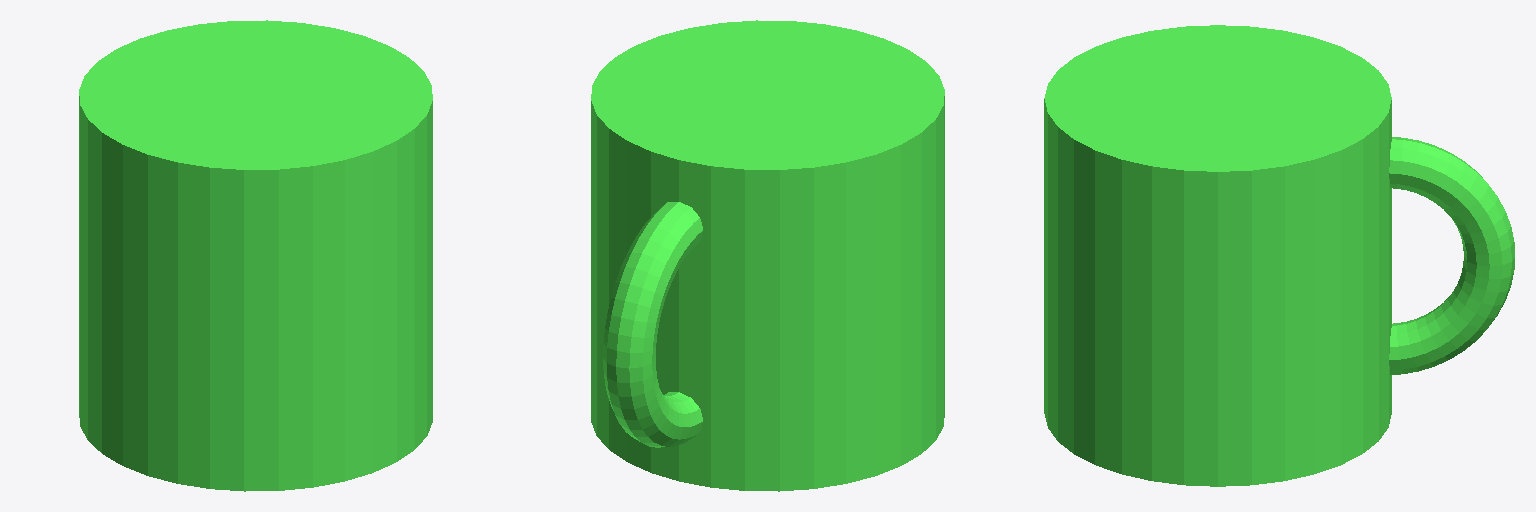
robot.urdf — mug.urdf:
<?xml version="1.0" ?>
<robot name="mug.urdf">
  <link name="baseLink">
    <inertial>
      <origin rpy="0 0 0" xyz="0 0 0"/>
       <mass value=".0"/>
       <inertia ixx="0" ixy="0" ixz="0" iyy="0" iyz="0" izz="0"/>
    </inertial>
    <visual>
      <origin rpy="0 0 0" xyz="0 0 0"/>
      <geometry>
				<mesh filename="package://meshes/mug_comp/mug_dbl.obj" scale="1 1 1"/>
      </geometry>
       <material name="green">
        <color rgba="0.4 1 0.4 0.5"/>
      </material>
    </visual>
    <collision>
      <origin rpy="0 0 0" xyz="0 0 0"/>
     <geometry>
				<mesh filename="package://meshes/mug_comp/mug_dbl_filled.obj" scale="1 1 1"/>
      </geometry>
    </collision>
  </link>
    <link name="link1">
        <inertial>
          <origin rpy="0 0 0" xyz="0 0 0"/>
           <mass value=".0"/>
           <inertia ixx="0" ixy="0" ixz="0" iyy="0" iyz="0" izz="0"/>
        </inertial>
        <visual>
      <origin rpy="0 0 0" xyz="0 0 0"/>
      <geometry>
				<mesh filename="package://meshes/mug_comp/mug_dbl_filled1.obj" scale="1 1 1"/>
      </geometry>
       <material name="green">
        <color rgba="0.4 1 0.4 0.5"/>
      </material>
    </visual>
    <collision>
      <origin rpy="0 0 0" xyz="0 0 0"/>
     <geometry>
				<mesh filename="package://meshes/mug_comp/mug_dbl_filled1.obj" scale="1 1 1"/>
      </geometry>
    </collision>
  </link>
    <link name="link2">
        <inertial>
          <origin rpy="0 0 0" xyz="0 0 0"/>
           <mass value=".0"/>
           <inertia ixx="0" ixy="0" ixz="0" iyy="0" iyz="0" izz="0"/>
        </inertial>
        <visual>
      <origin rpy="0 0 0" xyz="0 0 0"/>
      <geometry>
				<mesh filename="package://meshes/mug_comp/mug_dbl_filled2.obj" scale="1 1 1"/>
      </geometry>
       <material name="green">
        <color rgba="0.4 1 0.4 0.5"/>
      </material>
    </visual>
    <collision>
      <origin rpy="0 0 0" xyz="0 0 0"/>
     <geometry>
				<mesh filename="package://meshes/mug_comp/mug_dbl_filled2.obj" scale="1 1 1"/>
      </geometry>
    </collision>
  </link>
    <link name="link3">
        <inertial>
          <origin rpy="0 0 0" xyz="0 0 0"/>
           <mass value=".0"/>
           <inertia ixx="0" ixy="0" ixz="0" iyy="0" iyz="0" izz="0"/>
        </inertial>
        <visual>
      <origin rpy="0 0 0" xyz="0 0 0"/>
      <geometry>
				<mesh filename="package://meshes/mug_comp/mug_dbl_filled3.obj" scale="1 1 1"/>
      </geometry>
       <material name="green">
        <color rgba="0.4 1 0.4 0.5"/>
      </material>
    </visual>
    <collision>
      <origin rpy="0 0 0" xyz="0 0 0"/>
     <geometry>
				<mesh filename="package://meshes/mug_comp/mug_dbl_filled3.obj" scale="1 1 1"/>
      </geometry>
    </collision>
  </link>
    <link name="link4">
        <inertial>
          <origin rpy="0 0 0" xyz="0 0 0"/>
           <mass value=".0"/>
           <inertia ixx="0" ixy="0" ixz="0" iyy="0" iyz="0" izz="0"/>
        </inertial>
        <visual>
      <origin rpy="0 0 0" xyz="0 0 0"/>
      <geometry>
				<mesh filename="package://meshes/mug_comp/mug_dbl_filled4.obj" scale="1 1 1"/>
      </geometry>
       <material name="green">
        <color rgba="0.4 1 0.4 0.5"/>
      </material>
    </visual>
    <collision>
      <origin rpy="0 0 0" xyz="0 0 0"/>
     <geometry>
				<mesh filename="package://meshes/mug_comp/mug_dbl_filled4.obj" scale="1 1 1"/>
      </geometry>
    </collision>
  </link>
    <link name="link5">
        <inertial>
          <origin rpy="0 0 0" xyz="0 0 0"/>
           <mass value=".0"/>
           <inertia ixx="0" ixy="0" ixz="0" iyy="0" iyz="0" izz="0"/>
        </inertial>
        <visual>
      <origin rpy="0 0 0" xyz="0 0 0"/>
      <geometry>
				<mesh filename="package://meshes/mug_comp/mug_dbl_filled5.obj" scale="1 1 1"/>
      </geometry>
       <material name="green">
        <color rgba="0.4 1 0.4 0.5"/>
      </material>
    </visual>
    <collision>
      <origin rpy="0 0 0" xyz="0 0 0"/>
     <geometry>
				<mesh filename="package://meshes/mug_comp/mug_dbl_filled5.obj" scale="1 1 1"/>
      </geometry>
    </collision>
  </link>
    <link name="link6">
        <inertial>
          <origin rpy="0 0 0" xyz="0 0 0"/>
           <mass value=".0"/>
           <inertia ixx="0" ixy="0" ixz="0" iyy="0" iyz="0" izz="0"/>
        </inertial>
        <visual>
      <origin rpy="0 0 0" xyz="0 0 0"/>
      <geometry>
				<mesh filename="package://meshes/mug_comp/mug_dbl_filled6.obj" scale="1 1 1"/>
      </geometry>
       <material name="green">
        <color rgba="0.4 1 0.4 0.5"/>
      </material>
    </visual>
    <collision>
      <origin rpy="0 0 0" xyz="0 0 0"/>
     <geometry>
				<mesh filename="package://meshes/mug_comp/mug_dbl_filled6.obj" scale="1 1 1"/>
      </geometry>
    </collision>
  </link>
    <link name="link7">
        <inertial>
          <origin rpy="0 0 0" xyz="0 0 0"/>
           <mass value=".0"/>
           <inertia ixx="0" ixy="0" ixz="0" iyy="0" iyz="0" izz="0"/>
        </inertial>
        <visual>
      <origin rpy="0 0 0" xyz="0 0 0"/>
      <geometry>
				<mesh filename="package://meshes/mug_comp/mug_dbl_filled7.obj" scale="1 1 1"/>
      </geometry>
       <material name="green">
        <color rgba="0.4 1 0.4 0.5"/>
      </material>
    </visual>
    <collision>
      <origin rpy="0 0 0" xyz="0 0 0"/>
     <geometry>
				<mesh filename="package://meshes/mug_comp/mug_dbl_filled7.obj" scale="1 1 1"/>
      </geometry>
    </collision>
  </link>
    <joint name="joint1" type="fixed">
        <origin rpy="0 0 0" xyz="0 0 0"/>
        <parent link="baseLink"/>
        <child link="link1"/>
    </joint>
    <joint name="joint2" type="fixed">
        <origin rpy="0 0 0" xyz="0 0 0"/>
        <parent link="baseLink"/>
        <child link="link2"/>
    </joint>
    <joint name="joint3" type="fixed">
        <origin rpy="0 0 0" xyz="0 0 0"/>
        <parent link="baseLink"/>
        <child link="link3"/>
    </joint>
    <joint name="joint4" type="fixed">
        <origin rpy="0 0 0" xyz="0 0 0"/>
        <parent link="baseLink"/>
        <child link="link4"/>
    </joint>
    <joint name="joint5" type="fixed">
        <origin rpy="0 0 0" xyz="0 0 0"/>
        <parent link="baseLink"/>
        <child link="link5"/>
    </joint>
    <joint name="joint6" type="fixed">
        <origin rpy="0 0 0" xyz="0 0 0"/>
        <parent link="baseLink"/>
        <child link="link6"/>
    </joint>
    <joint name="joint7" type="fixed">
        <origin rpy="0 0 0" xyz="0 0 0"/>
        <parent link="baseLink"/>
        <child link="link7"/>
    </joint>
</robot>

--- Render facts (derived) ---
3 views of the same robot in one strip: view 1: azimuth 30°, elevation 25°; view 2: azimuth 150°, elevation 25°; view 3: azimuth 270°, elevation 25° (orthographic).
Model mug.urdf with 8 links and 7 joints (7 fixed), rooted at baseLink, posed every joint at zero.
Visible links, largest first — view 1: baseLink; view 2: baseLink, link3, link7, link2, link6, link1, link5, link4; view 3: baseLink, link3, link7, link6, link2, link1, link5, link4.
Boxes of the visible links, left/top/right/bottom form: baseLink: left=79, top=20, right=432, bottom=491; baseLink: left=591, top=20, right=944, bottom=491; link3: left=605, top=267, right=668, bottom=337; link7: left=603, top=329, right=656, bottom=396; link2: left=620, top=227, right=684, bottom=287; link6: left=605, top=379, right=668, bottom=436; link1: left=640, top=202, right=702, bottom=258; link5: left=626, top=396, right=684, bottom=447; link4: left=664, top=392, right=702, bottom=446; baseLink: left=1044, top=25, right=1391, bottom=486; link3: left=1444, top=171, right=1510, bottom=243; link7: left=1461, top=227, right=1514, bottom=292; link6: left=1441, top=275, right=1510, bottom=341; link2: left=1417, top=146, right=1477, bottom=208; link1: left=1389, top=137, right=1435, bottom=192; link5: left=1416, top=303, right=1474, bottom=366; link4: left=1389, top=319, right=1433, bottom=374.
Size in the robot's own frame: 0.52 by 0.7051 by 0.52 metres.
8 mesh visuals loaded from 8 distinct referenced files (8 OBJ).